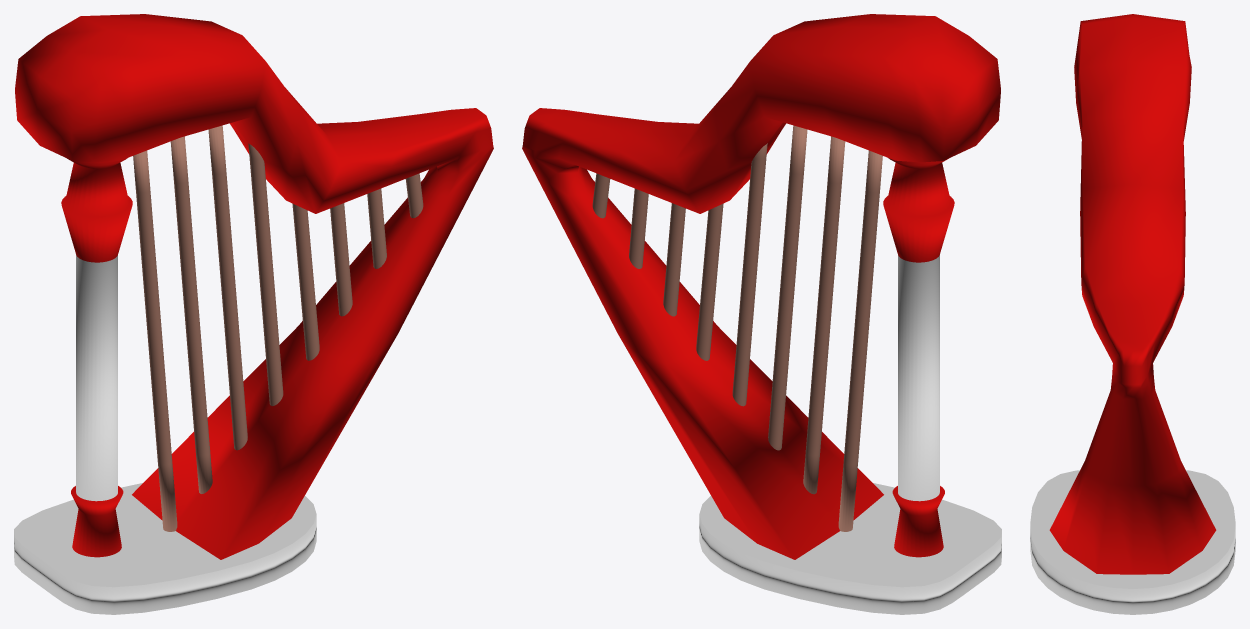
The model's file is harp.fbx.
The picture shows the model from 3 angles, left to right: view 1: azimuth 30°, elevation 25°; view 2: azimuth 150°, elevation 25°; view 3: azimuth 270°, elevation 25°; orthographic projection. The views are drawn at different scales.
Visible parts, largest first — view 1: Harp; view 2: Harp; view 3: Harp.
Part boxes in pixels (bbox=[...]): Harp: bbox=[14, 14, 493, 614]; Harp: bbox=[522, 14, 1001, 614]; Harp: bbox=[1030, 14, 1235, 614].
Size of the model in its own units: 179 by 205 by 75.27.
